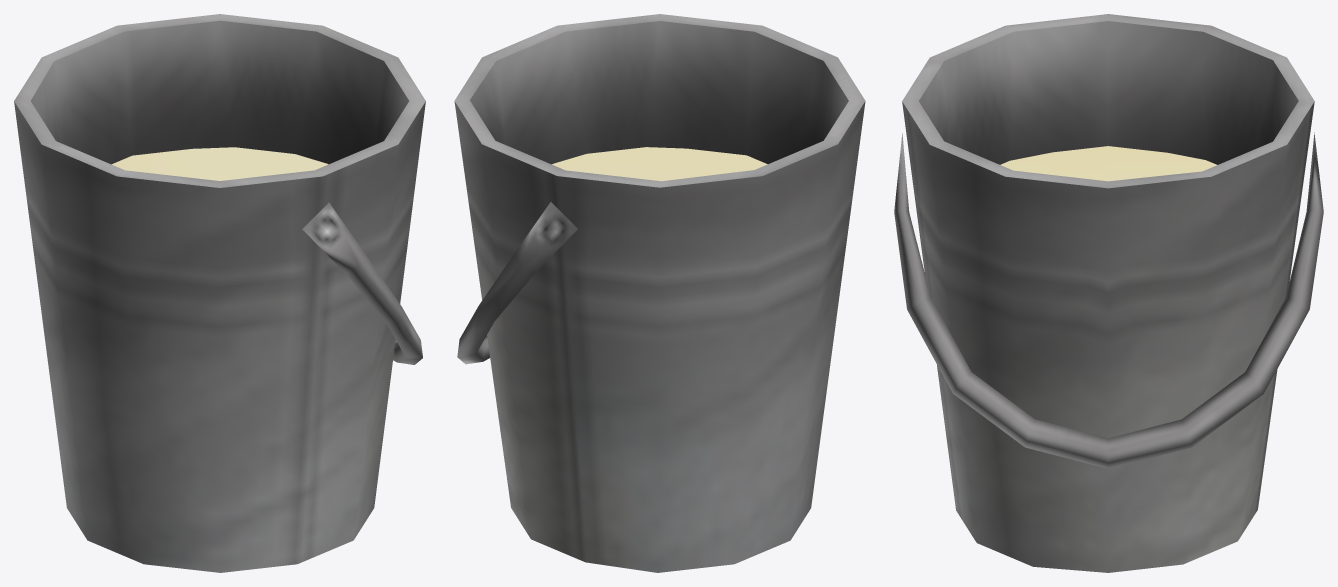
File: Bucket_Liquid.fbx
3 views of the same model, side by side, from view 1: azimuth 30°, elevation 25°; view 2: azimuth 150°, elevation 25°; view 3: azimuth 270°, elevation 25° (orthographic).
Parts seen in each view (by area): view 1: Bucket; view 2: Bucket; view 3: Bucket.
Part boxes in pixels (box(x1,y1,x2,y2)): Bucket: box(14, 14, 425, 572); Bucket: box(454, 14, 865, 572); Bucket: box(894, 14, 1323, 572).
Size of the model in its own units: 42.34 by 46.26 by 44.08.
